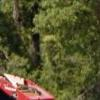Tree: (34, 4, 100, 87)
